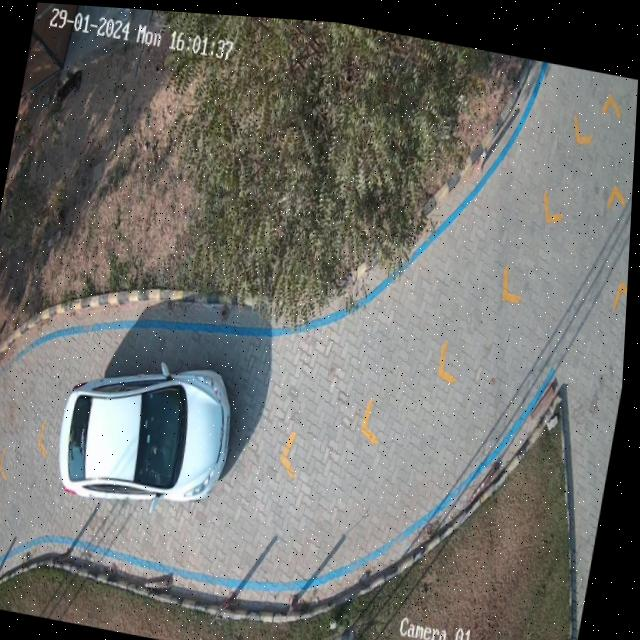car: (63, 362, 235, 503)
